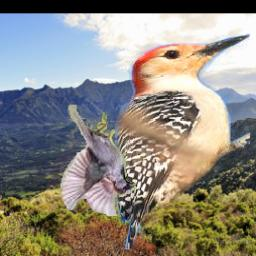Sparrow: (59, 106, 136, 217)
Woodpecker: (115, 32, 250, 250)
